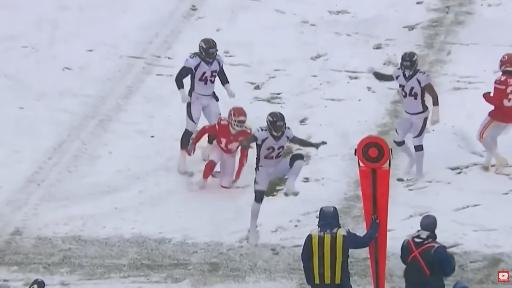Helmet: (228, 107, 247, 133), (267, 112, 286, 137), (400, 52, 418, 75), (199, 39, 217, 61), (499, 53, 512, 72)
Jersey: (193, 118, 251, 154), (393, 69, 431, 115), (253, 127, 293, 168), (184, 54, 223, 95), (484, 75, 511, 123)
Player: (241, 112, 326, 243), (373, 52, 439, 179), (176, 39, 235, 173), (188, 107, 251, 188), (478, 54, 511, 171)
